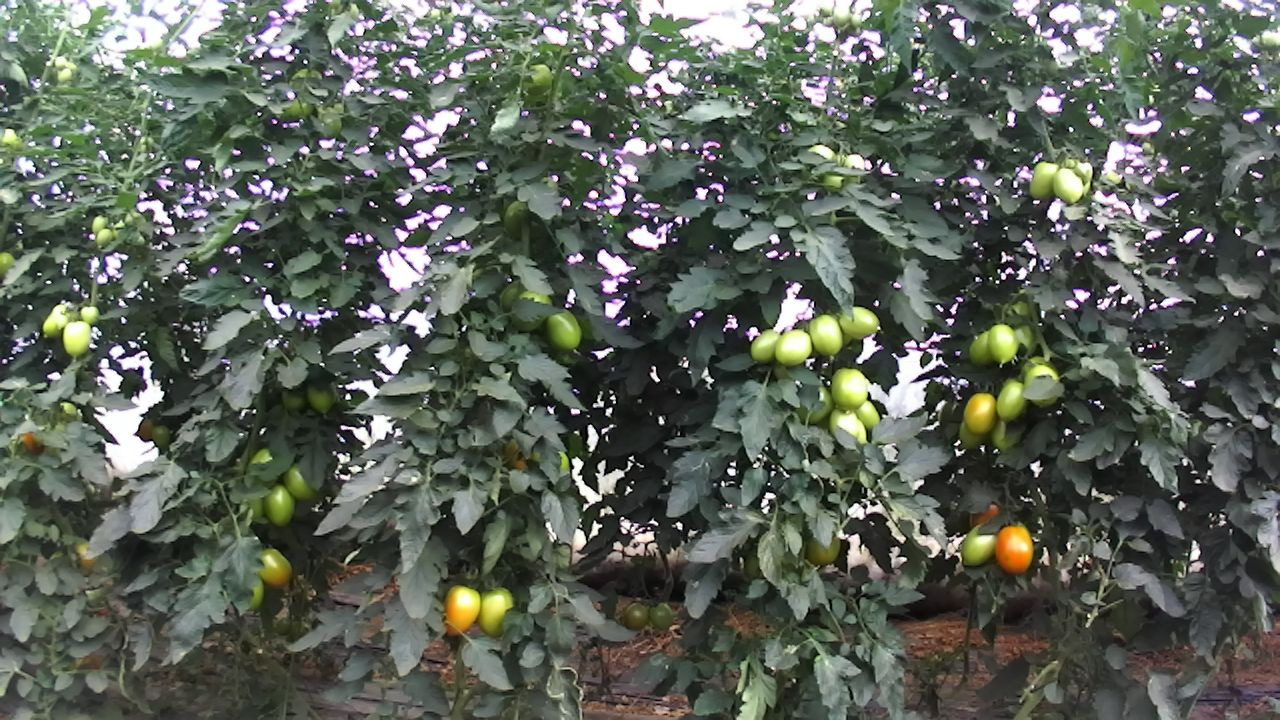tomato: (439, 581, 483, 639), (993, 522, 1036, 578), (541, 303, 585, 356), (477, 583, 515, 640), (827, 364, 869, 414), (958, 519, 998, 571), (254, 542, 296, 591), (258, 481, 300, 530), (960, 389, 1001, 439), (837, 300, 883, 342), (806, 311, 846, 359), (772, 324, 814, 367), (993, 375, 1027, 423), (1049, 164, 1086, 206), (985, 321, 1018, 368), (746, 327, 783, 367), (59, 318, 94, 359), (283, 463, 317, 504), (1028, 158, 1060, 201), (804, 537, 843, 568), (304, 379, 338, 414), (966, 328, 994, 369), (39, 307, 68, 341), (853, 397, 881, 431), (646, 600, 675, 630), (622, 601, 649, 632), (78, 303, 100, 327), (89, 213, 110, 235), (94, 227, 113, 251)
